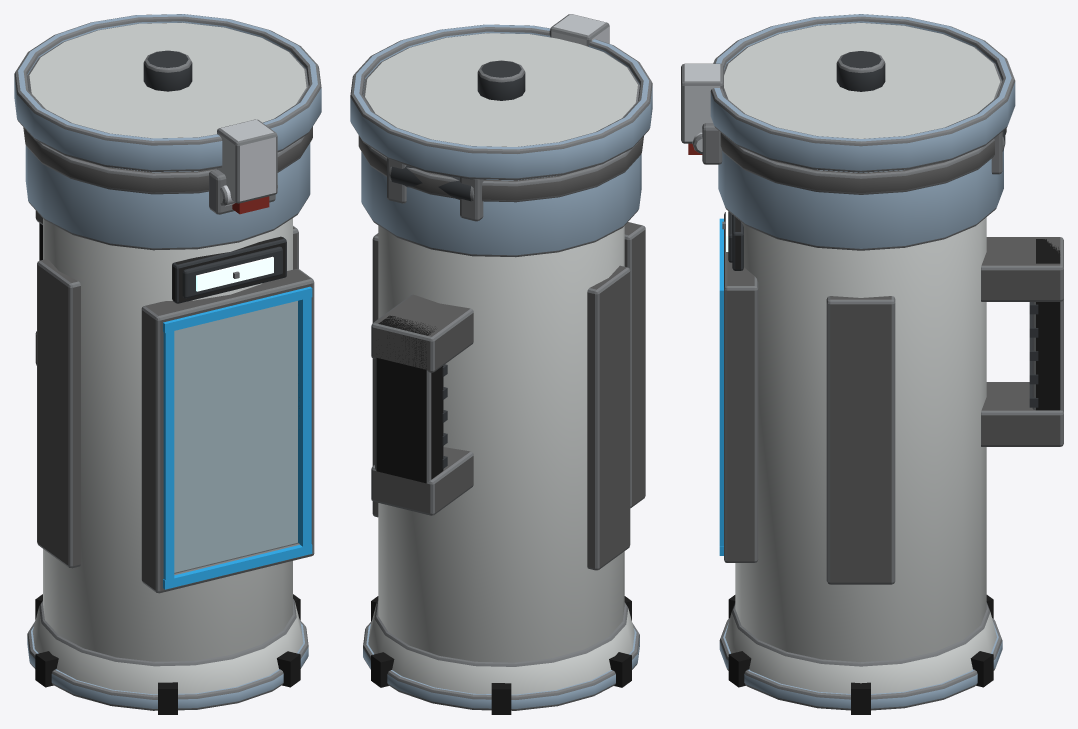
File: vacuum_canister_full.fbx
3 views of the same model, side by side, from view 1: azimuth 30°, elevation 25°; view 2: azimuth 150°, elevation 25°; view 3: azimuth 270°, elevation 25° (orthographic).
Visible parts, largest first — view 1: Mesh_VacuumCanister_Body, Mesh_VacuumCanister_LidShut, Mesh_VacuumCanister_GlassSealed, Mesh_VacuumCanister_Collar, Mesh_VacuumCanister_Foot, Mesh_VacuumCanister_Field, Mesh_SprayerGauge_Plate; view 2: Mesh_VacuumCanister_Body, Mesh_VacuumCanister_LidShut, Mesh_VacuumCanister_Collar, Mesh_VacuumCanister_Handle, Mesh_VacuumCanister_Foot; view 3: Mesh_VacuumCanister_Body, Mesh_VacuumCanister_LidShut, Mesh_VacuumCanister_Collar, Mesh_VacuumCanister_Foot, Mesh_VacuumCanister_Handle, Mesh_VacuumCanister_Field, Mesh_SprayerGauge_Plate.
Boxes of the visible parts, x1=… form: Mesh_VacuumCanister_Body: x1=37, y1=218, x2=314, y2=661; Mesh_VacuumCanister_LidShut: x1=14, y1=14, x2=321, y2=214; Mesh_VacuumCanister_GlassSealed: x1=174, y1=301, x2=297, y2=572; Mesh_VacuumCanister_Collar: x1=23, y1=127, x2=312, y2=250; Mesh_VacuumCanister_Foot: x1=27, y1=594, x2=308, y2=714; Mesh_VacuumCanister_Field: x1=163, y1=286, x2=312, y2=589; Mesh_SprayerGauge_Plate: x1=172, y1=236, x2=286, y2=303; Mesh_VacuumCanister_Body: x1=372, y1=222, x2=645, y2=662; Mesh_VacuumCanister_LidShut: x1=350, y1=14, x2=652, y2=201; Mesh_VacuumCanister_Collar: x1=358, y1=135, x2=643, y2=257; Mesh_VacuumCanister_Handle: x1=371, y1=294, x2=473, y2=515; Mesh_VacuumCanister_Foot: x1=363, y1=596, x2=639, y2=714; Mesh_VacuumCanister_Body: x1=724, y1=212, x2=986, y2=661; Mesh_VacuumCanister_LidShut: x1=681, y1=14, x2=1015, y2=172; Mesh_VacuumCanister_Collar: x1=692, y1=123, x2=1006, y2=250; Mesh_VacuumCanister_Foot: x1=719, y1=595, x2=1002, y2=714; Mesh_VacuumCanister_Handle: x1=981, y1=237, x2=1063, y2=446; Mesh_VacuumCanister_Field: x1=719, y1=218, x2=723, y2=555; Mesh_SprayerGauge_Plate: x1=726, y1=209, x2=743, y2=270.
Size of the model in its own units: 21.6 by 45.8 by 26.8.
